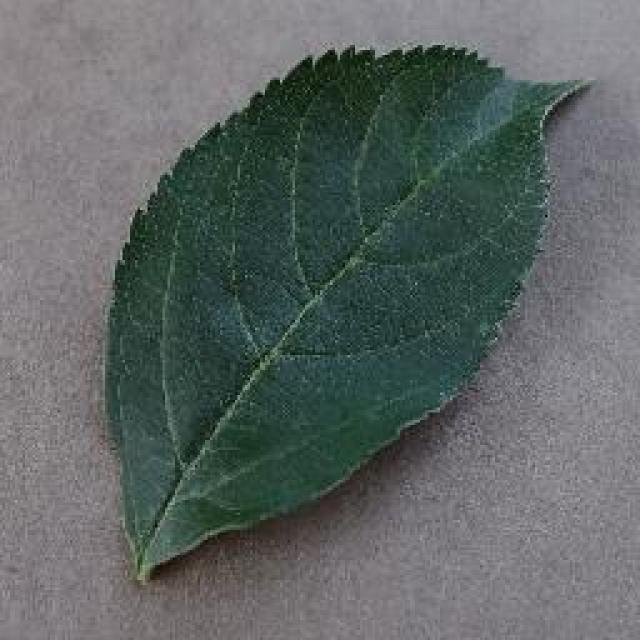apple healthy: (97, 38, 595, 582)
